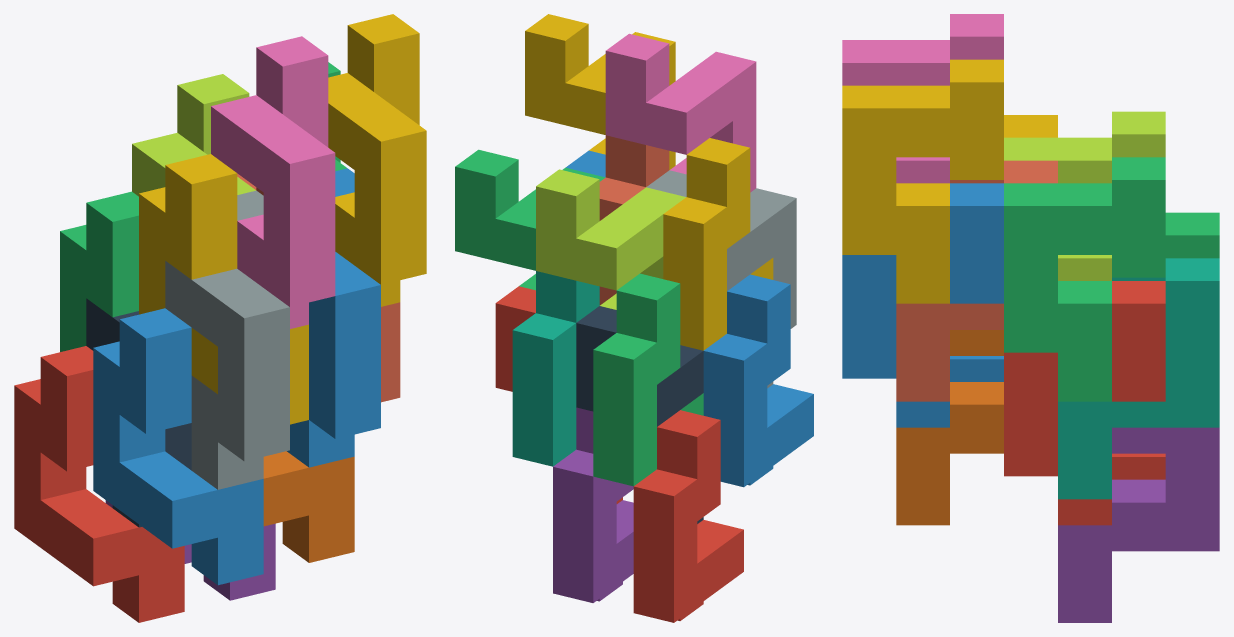
File: tiling.obj
3 views of the same model, side by side, from view 1: azimuth 30°, elevation 25°; view 2: azimuth 150°, elevation 25°; view 3: azimuth 270°, elevation 25° (orthographic). The views are drawn at different scales.
Parts seen in each view (by area): view 1: copy_1_domain_2, copy_2_domain_4, copy_1_domain_1, copy_2_domain_8, copy_2_domain_2, copy_1_domain_4, copy_2_domain_6, copy_1_domain_3, copy_1_domain_6, copy_2_domain_3, copy_2_domain_1, copy_1_domain_8 (+1 smaller); view 2: copy_1_domain_1, copy_1_domain_2, copy_2_domain_4, copy_1_domain_3, copy_1_domain_4, copy_2_domain_3, copy_1_domain_7, copy_1_domain_5, copy_2_domain_8, copy_2_domain_7, copy_2_domain_2, copy_2_domain_1 (+3 smaller); view 3: copy_2_domain_8, copy_2_domain_7, copy_1_domain_5, copy_1_domain_7, copy_2_domain_6, copy_2_domain_5, copy_1_domain_6, copy_2_domain_4, copy_1_domain_8, copy_2_domain_3, copy_1_domain_3, copy_1_domain_1 (+2 smaller).
Boxes of the visible parts, x1,y1,x2,y2 form: copy_1_domain_2: (93, 308, 263, 585); copy_2_domain_4: (211, 36, 335, 328); copy_1_domain_1: (14, 346, 184, 622); copy_2_domain_8: (328, 14, 426, 306); copy_2_domain_2: (165, 190, 289, 489); copy_1_domain_4: (139, 154, 308, 424); copy_2_domain_6: (287, 168, 380, 467); copy_1_domain_3: (60, 191, 138, 351); copy_1_domain_6: (263, 451, 354, 562); copy_2_domain_3: (132, 74, 255, 196); copy_2_domain_1: (86, 298, 191, 527); copy_1_domain_8: (237, 173, 400, 402); copy_1_domain_1: (633, 410, 743, 622); copy_1_domain_2: (703, 274, 813, 487); copy_2_domain_4: (605, 33, 756, 192); copy_1_domain_3: (593, 273, 703, 486); copy_1_domain_4: (663, 138, 773, 350); copy_2_domain_3: (536, 169, 686, 309); copy_1_domain_7: (512, 271, 599, 466); copy_1_domain_5: (553, 407, 633, 602); copy_2_domain_8: (525, 14, 675, 169); copy_2_domain_7: (455, 149, 605, 290); copy_2_domain_2: (646, 170, 796, 388); copy_2_domain_1: (576, 306, 703, 523); copy_2_domain_8: (842, 59, 1003, 303); copy_2_domain_7: (1004, 157, 1165, 401); copy_1_domain_5: (1058, 427, 1219, 622); copy_1_domain_7: (1058, 258, 1219, 499); copy_2_domain_6: (842, 183, 1003, 427); copy_2_domain_5: (1004, 281, 1165, 525); copy_1_domain_6: (896, 330, 1003, 525); copy_2_domain_4: (842, 14, 1003, 183); copy_1_domain_8: (896, 160, 1057, 401); copy_2_domain_3: (1004, 111, 1165, 280); copy_1_domain_3: (1165, 212, 1219, 258); copy_1_domain_1: (1112, 453, 1165, 479).
Bounding box in the file's own units: 6 × 12 × 7.
